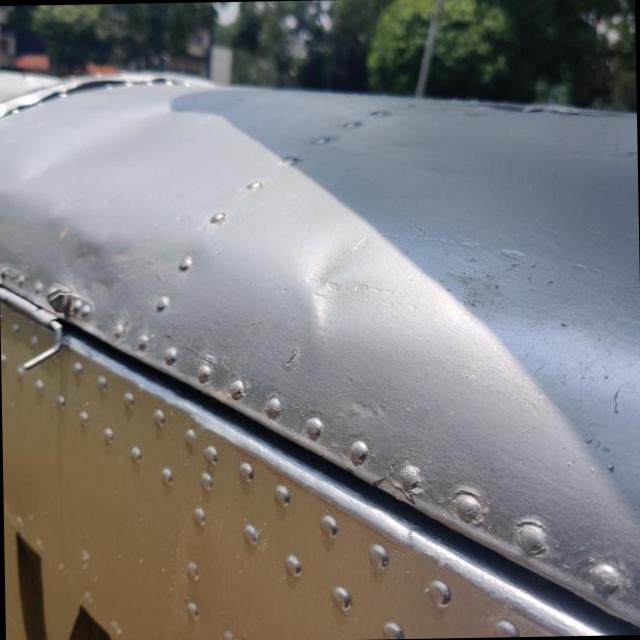Dent: (282, 195, 415, 351)
